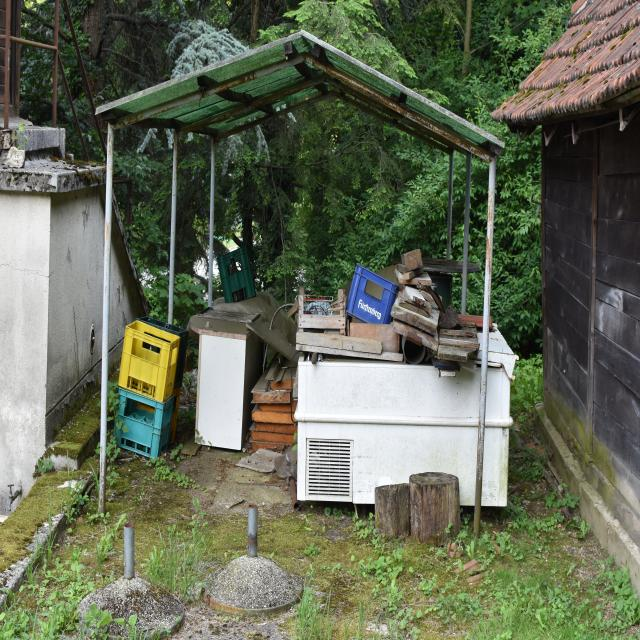entulho: (114, 316, 187, 462), (249, 352, 305, 456), (396, 255, 446, 347), (344, 260, 398, 325), (295, 333, 407, 359), (295, 287, 350, 335), (216, 247, 258, 306), (432, 320, 480, 366)
restos de madeira: (411, 469, 462, 541), (378, 481, 412, 536)
